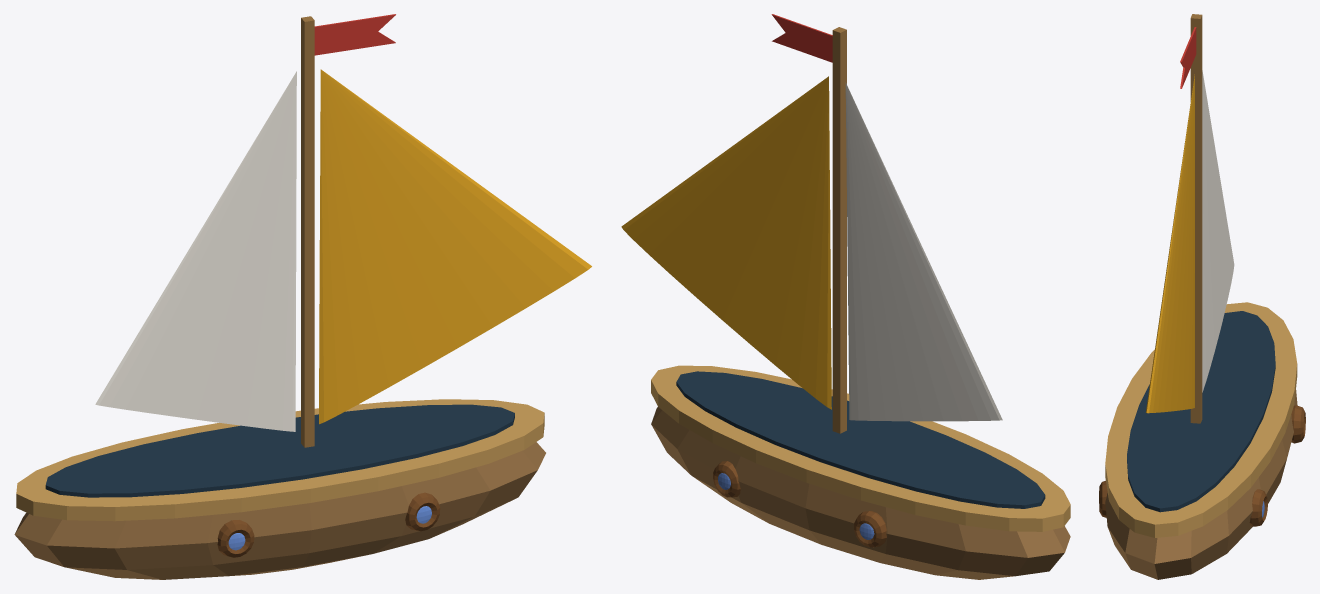
Rendered from veleiro.glb.
3 views of the same model, side by side, from view 1: azimuth 30°, elevation 25°; view 2: azimuth 150°, elevation 25°; view 3: azimuth 270°, elevation 25° (orthographic). The views are drawn at different scales.
Parts seen in each view (by area): view 1: Vela amarela, Vela branca, Casco, Interior, Borda, Mastro, Bandeira, Torus, Torus (cópia); view 2: Vela amarela, Vela branca, Interior, Casco, Borda, Mastro, Bandeira, Torus (cópia 2), Torus (cópia) (cópia); view 3: Interior, Borda, Vela amarela, Casco, Vela branca, Mastro, Torus (cópia) (cópia), Bandeira, Torus (cópia 2).
Part boxes in pixels (box(x1,y1,x2,y2)): Vela amarela: box(319, 69, 591, 424); Vela branca: box(95, 71, 296, 431); Casco: box(14, 442, 545, 579); Interior: box(45, 404, 514, 497); Borda: box(16, 399, 544, 521); Mastro: box(301, 16, 314, 447); Bandeira: box(314, 14, 395, 55); Torus: box(217, 520, 254, 557); Torus (cópia): box(405, 492, 440, 531); Vela amarela: box(621, 76, 831, 409); Vela branca: box(845, 82, 1002, 421); Interior: box(676, 371, 1045, 508); Casco: box(651, 407, 1070, 579); Borda: box(651, 365, 1070, 531); Mastro: box(832, 27, 846, 433); Bandeira: box(771, 14, 832, 62); Torus (cópia 2): box(854, 511, 886, 547); Torus (cópia) (cópia): box(713, 461, 740, 497); Interior: box(1127, 311, 1275, 512); Borda: box(1105, 302, 1297, 537); Vela amarela: box(1145, 74, 1194, 413); Casco: box(1105, 390, 1297, 579); Vela branca: box(1202, 70, 1234, 392); Mastro: box(1190, 14, 1202, 423); Torus (cópia) (cópia): box(1249, 489, 1267, 526); Bandeira: box(1180, 27, 1196, 88); Torus (cópia 2): box(1291, 405, 1305, 443).
Bounding box in the file's own units: 3.1 × 3.04 × 1.11.
17 materials, 8 textured.
